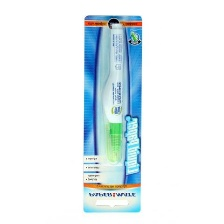book: (80, 13, 144, 215)
correction_fluid: (99, 19, 125, 166)
